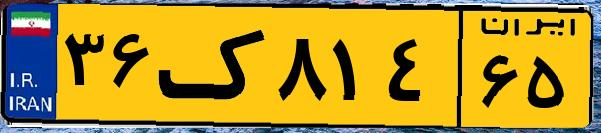1: (330, 28, 385, 110)
3: (57, 26, 110, 100)
4: (385, 28, 445, 110)
5: (525, 38, 570, 115)
6: (475, 38, 525, 113), (110, 28, 158, 98)
8: (270, 28, 330, 110)
ک: (158, 12, 270, 120)
